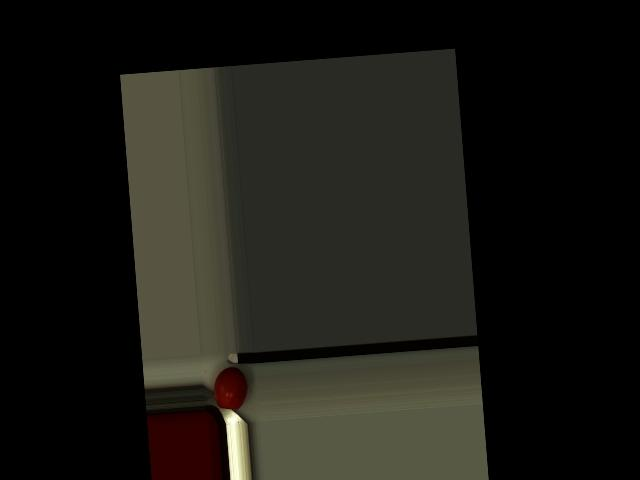tomato: (212, 366, 249, 411)
